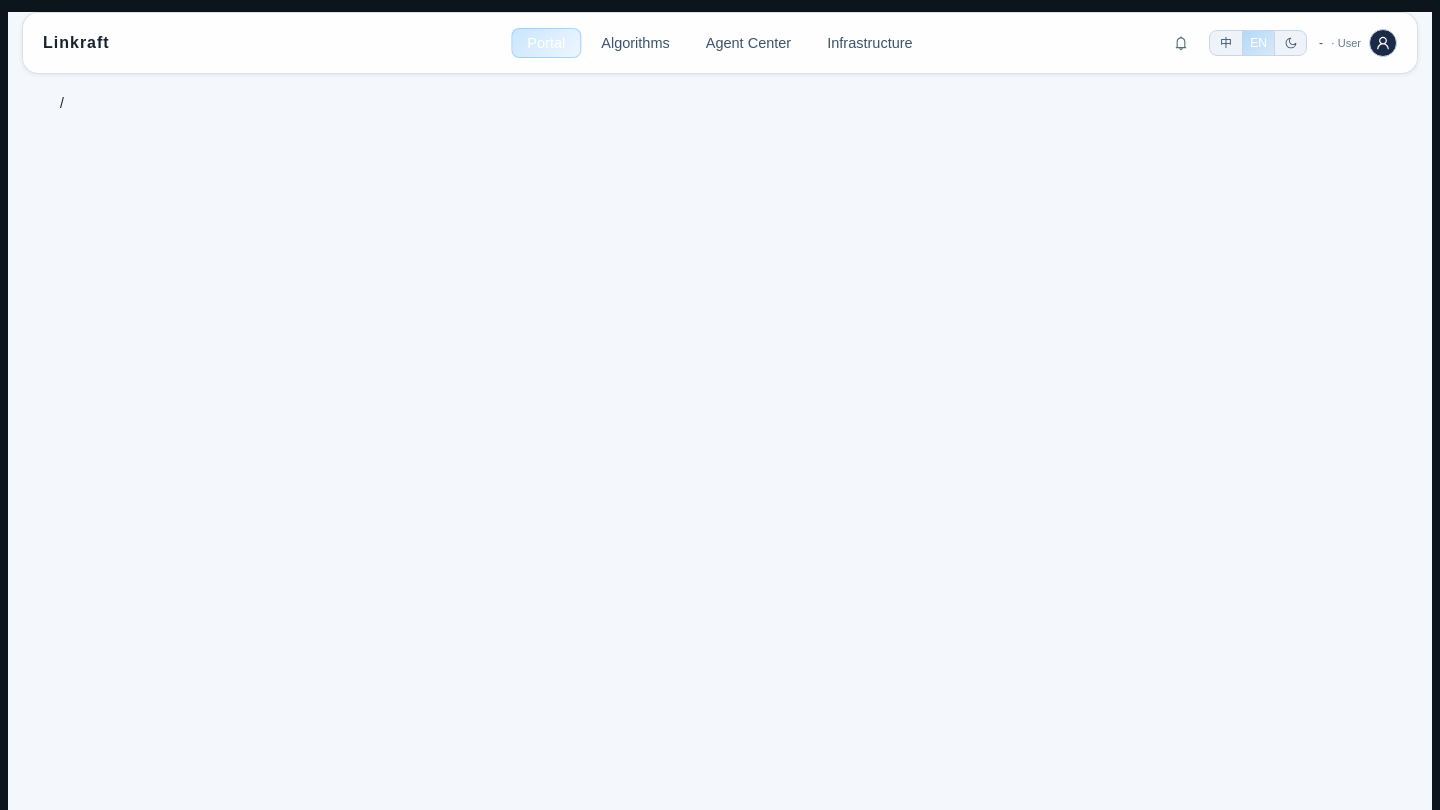
AppLayout (v2 five-view shell) › keeps the five view tabs visible and switches the active view
Click the button "Agent Center": (749, 43) [690, 28, 807, 58]
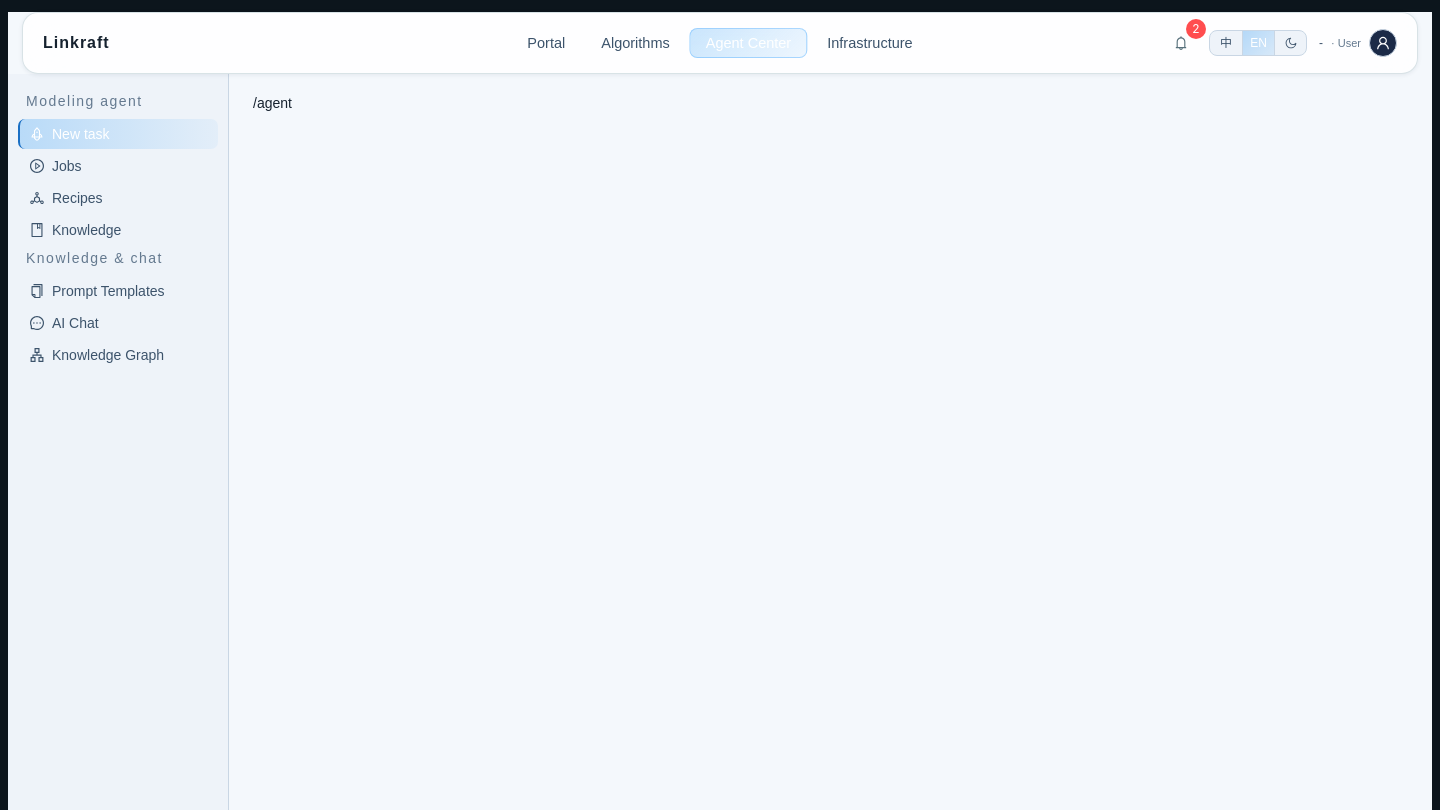
Expected: the text with test id "location" reads "/agent", [253, 95, 292, 111]
Expected: the text "New task" is shown, [52, 126, 110, 142]
